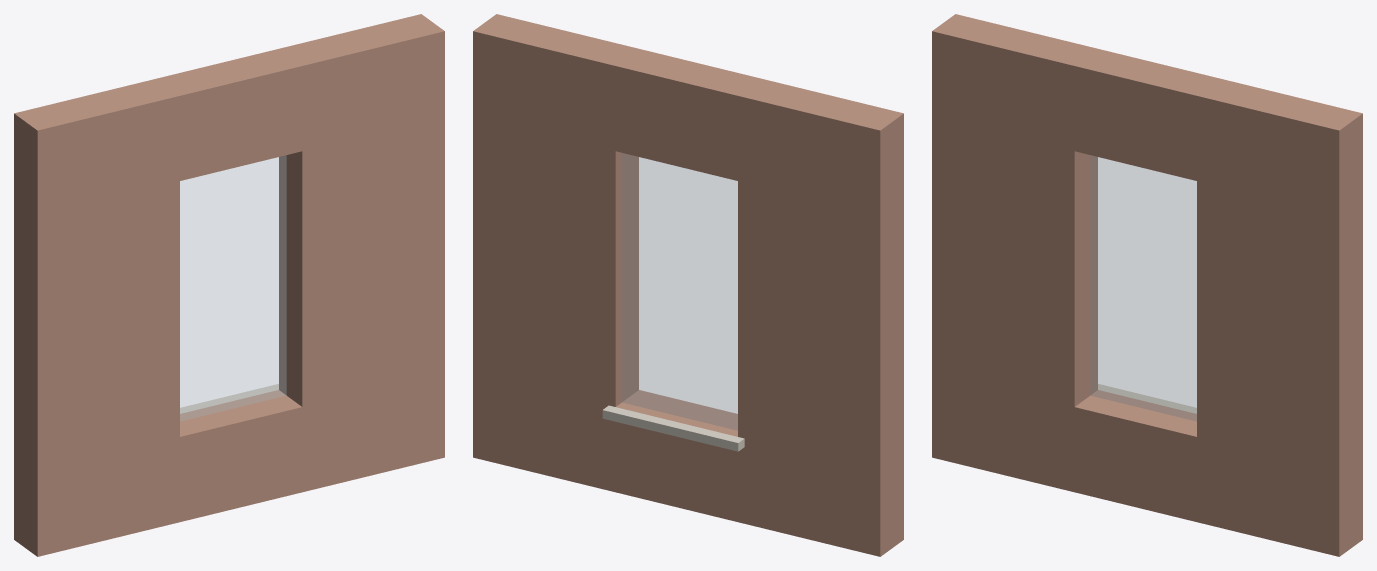
File: fac_brick_win_b.glb
The picture shows the model from 3 angles, left to right: view 1: azimuth 30°, elevation 25°; view 2: azimuth 150°, elevation 25°; view 3: azimuth 330°, elevation 25°; orthographic projection.
Parts seen in each view (by area): view 1: fac_brick_win_b; view 2: fac_brick_win_b; view 3: fac_brick_win_b.
Part boxes in pixels (left/top/right/bottom): fac_brick_win_b: left=14, top=14, right=444, bottom=556; fac_brick_win_b: left=473, top=14, right=903, bottom=556; fac_brick_win_b: left=932, top=14, right=1362, bottom=556.
Size of what is drawn, in the model's own units: 3 by 3 by 0.38.
